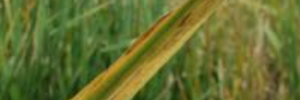RiceTungro: (80, 4, 212, 95)
